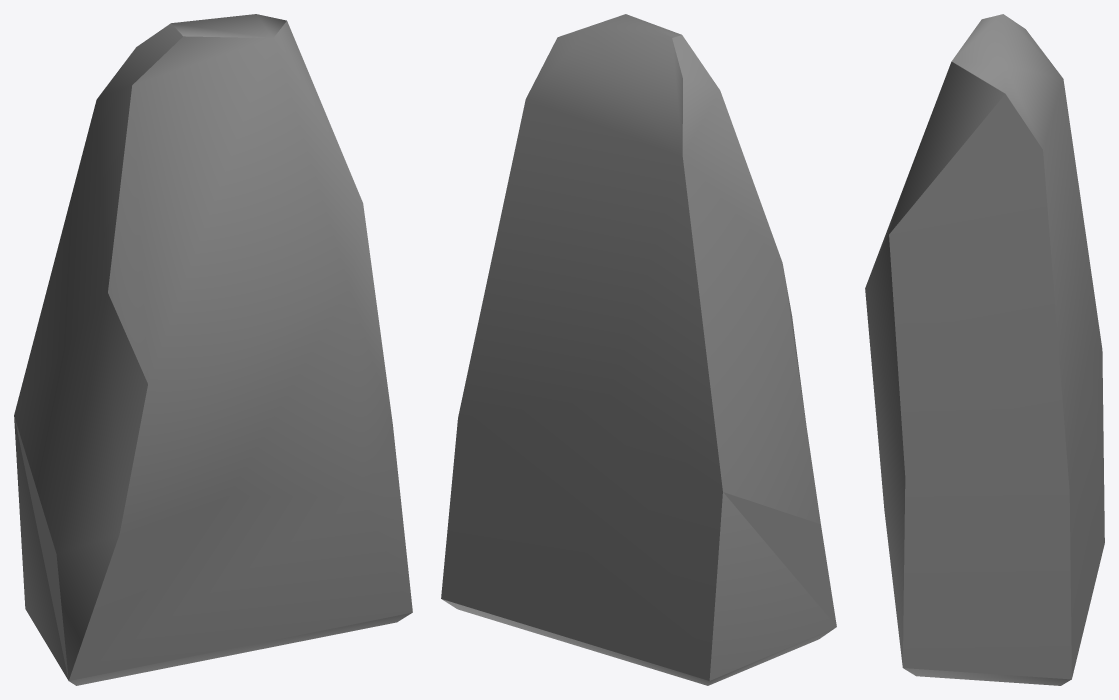
File: Batu1.fbx
3 views of the same model, side by side, from view 1: azimuth 30°, elevation 25°; view 2: azimuth 150°, elevation 25°; view 3: azimuth 270°, elevation 25° (orthographic). The views are drawn at different scales.
Visible parts, largest first — view 1: SM_Rocks_08; view 2: SM_Rocks_08; view 3: SM_Rocks_08.
Part boxes in pixels (x1=…): SM_Rocks_08: x1=14, y1=14, x2=412, y2=685; SM_Rocks_08: x1=441, y1=14, x2=836, y2=685; SM_Rocks_08: x1=865, y1=14, x2=1104, y2=685.
Bounding box in the file's own units: 56.29 × 97.58 × 36.34.
